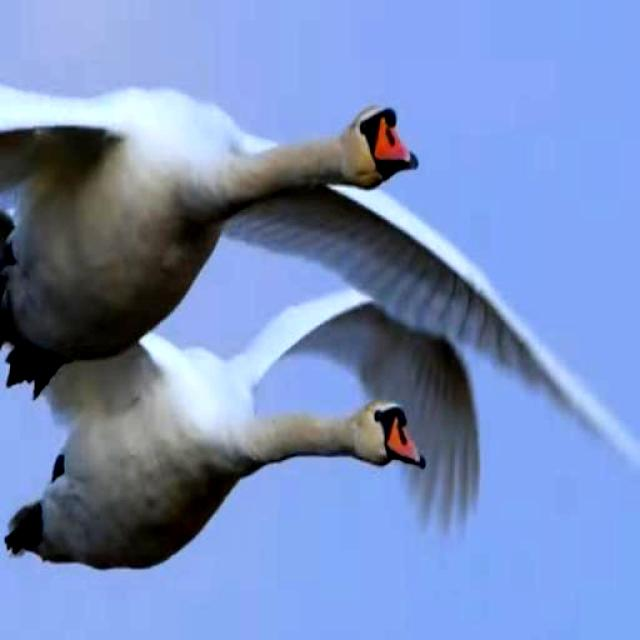airplane: (0, 95, 640, 472), (5, 321, 484, 586)
